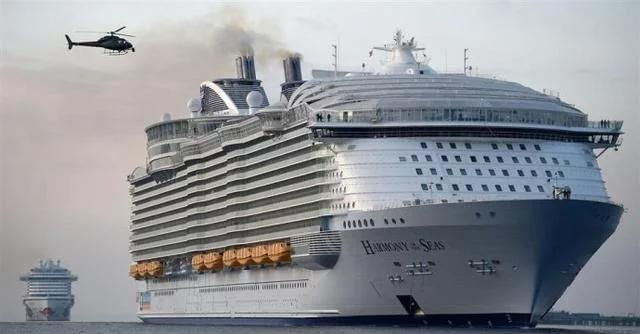airplane: (63, 28, 140, 57)
youlun: (130, 27, 637, 325), (15, 257, 81, 326)
